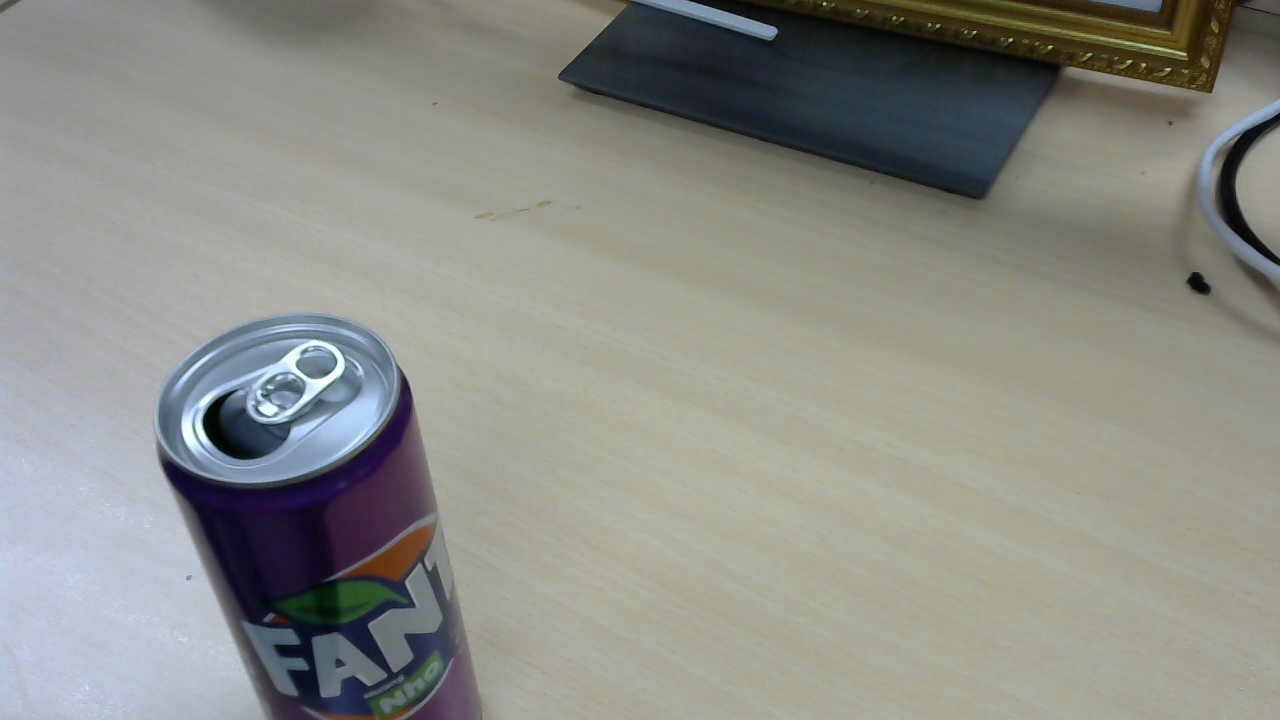Fanta: (158, 315, 486, 698)
